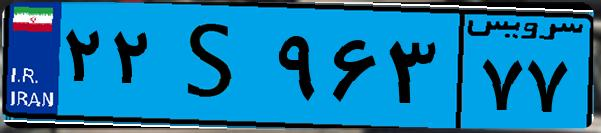2: (57, 26, 110, 100), (110, 28, 158, 98)
3: (385, 28, 445, 110)
6: (330, 28, 385, 110)
7: (475, 38, 525, 113), (525, 38, 570, 115)
9: (270, 28, 330, 110)
S: (158, 12, 270, 120)
